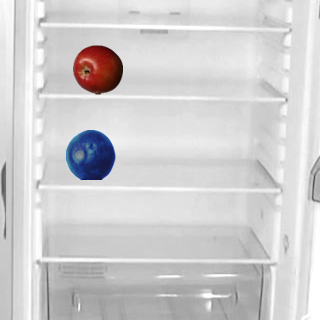Apple Braeburn: (72, 44, 122, 94)
Huckleberry: (65, 129, 115, 179)
